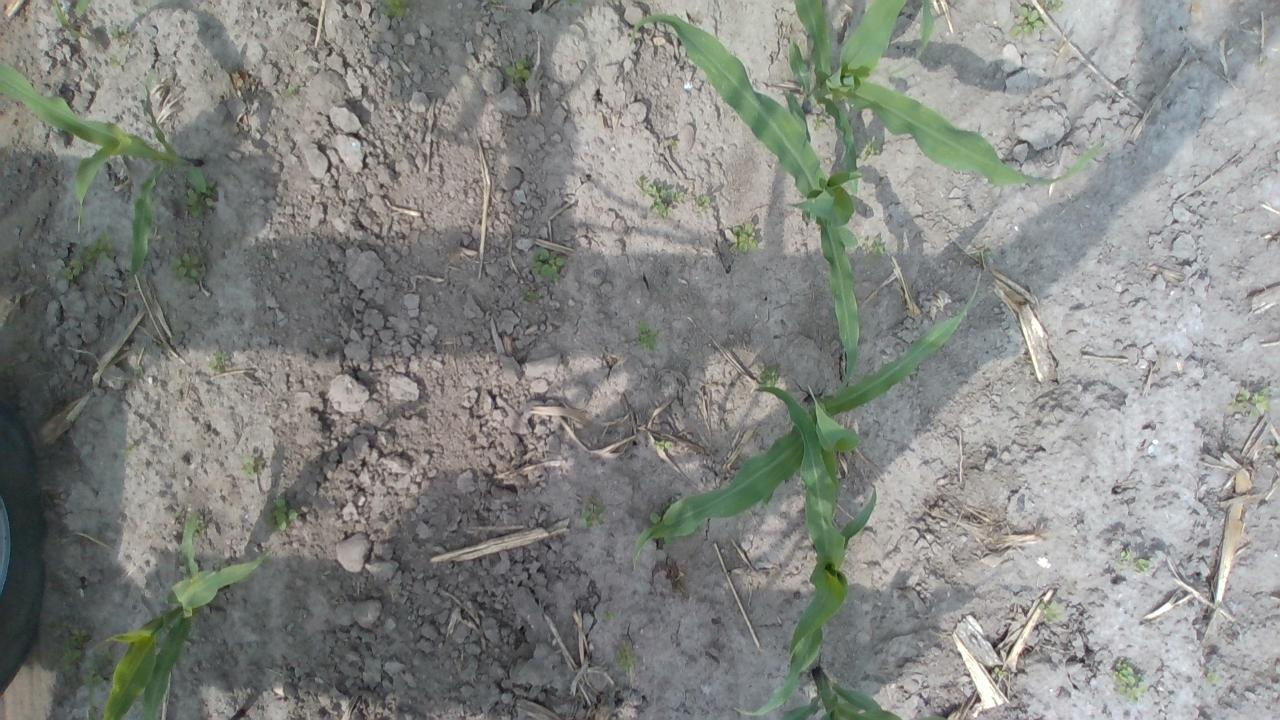Maize: (634, 274, 982, 557), (632, 13, 865, 382), (787, 0, 1106, 194), (732, 384, 879, 715), (0, 60, 207, 274), (82, 511, 275, 720), (780, 664, 949, 720)
Weeds: (638, 176, 686, 223), (528, 243, 568, 285), (1224, 384, 1273, 417), (55, 625, 88, 674), (1112, 662, 1149, 704), (82, 640, 112, 690), (183, 178, 218, 219), (166, 253, 204, 290), (262, 492, 298, 530), (50, 0, 80, 39), (1009, 4, 1045, 35), (728, 224, 761, 256), (84, 233, 115, 267), (635, 320, 658, 352), (504, 56, 532, 81), (61, 255, 84, 284), (1040, 599, 1066, 624), (612, 644, 634, 673), (582, 502, 606, 528), (861, 134, 882, 160), (382, 0, 410, 18), (758, 368, 782, 388), (237, 456, 258, 477), (206, 350, 228, 369), (517, 286, 537, 304), (85, 694, 98, 720), (1038, 0, 1064, 12), (694, 192, 710, 210), (872, 238, 886, 257), (74, 0, 90, 16), (811, 114, 827, 128), (1135, 558, 1150, 572), (192, 519, 204, 536), (658, 535, 678, 545), (974, 249, 992, 260), (646, 511, 660, 525), (110, 54, 124, 68), (992, 666, 1008, 678), (110, 30, 128, 40), (654, 441, 673, 450), (1206, 670, 1217, 684), (1119, 548, 1131, 560), (604, 610, 616, 621), (120, 447, 132, 457), (286, 84, 296, 96), (560, 0, 578, 6), (94, 40, 104, 50), (1275, 444, 1280, 454)
